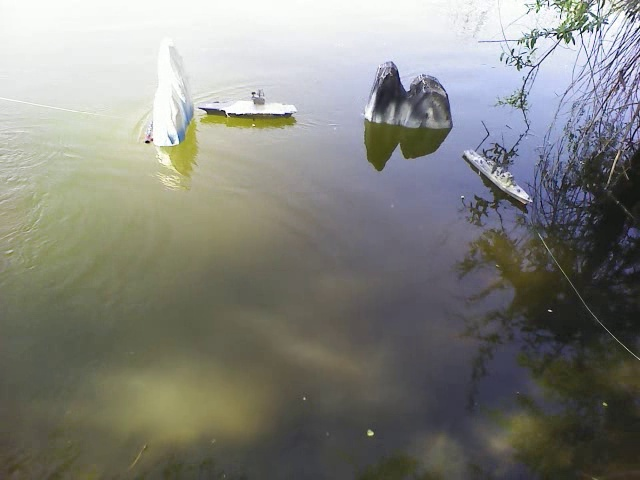aircraft_carrier: (197, 91, 301, 125)
iceberg: (146, 38, 197, 146)
rock: (363, 59, 459, 134)
warship: (463, 147, 533, 207)
